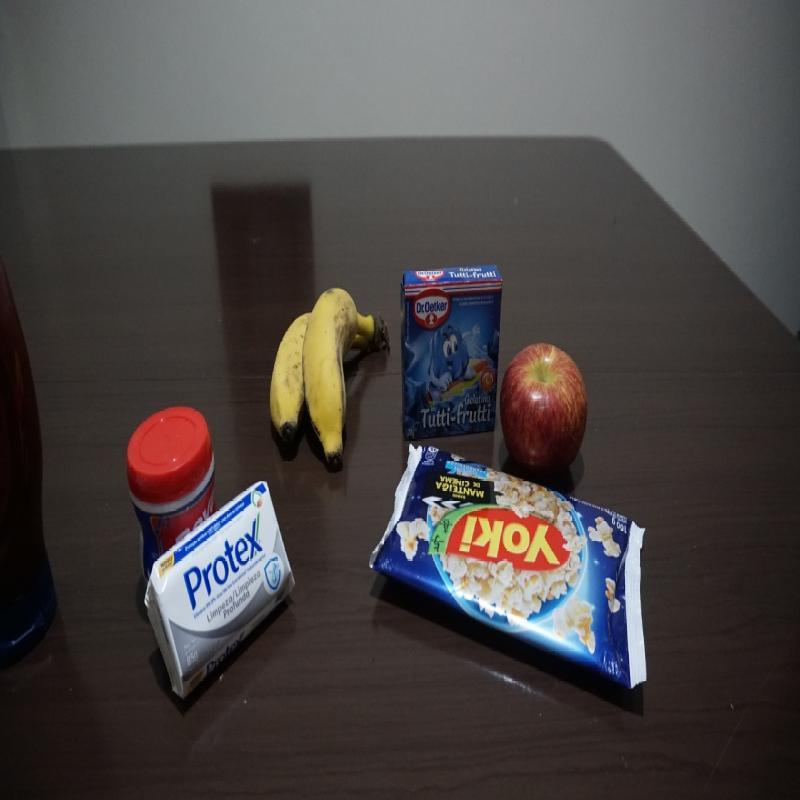Apple: (500, 343, 589, 478)
Banana: (269, 284, 390, 472)
Gelatine: (400, 260, 506, 442)
Ketchup: (1, 251, 66, 667)
Popcorn: (367, 442, 650, 692)
Soap: (145, 481, 298, 701)
Yeast: (125, 405, 224, 572)
